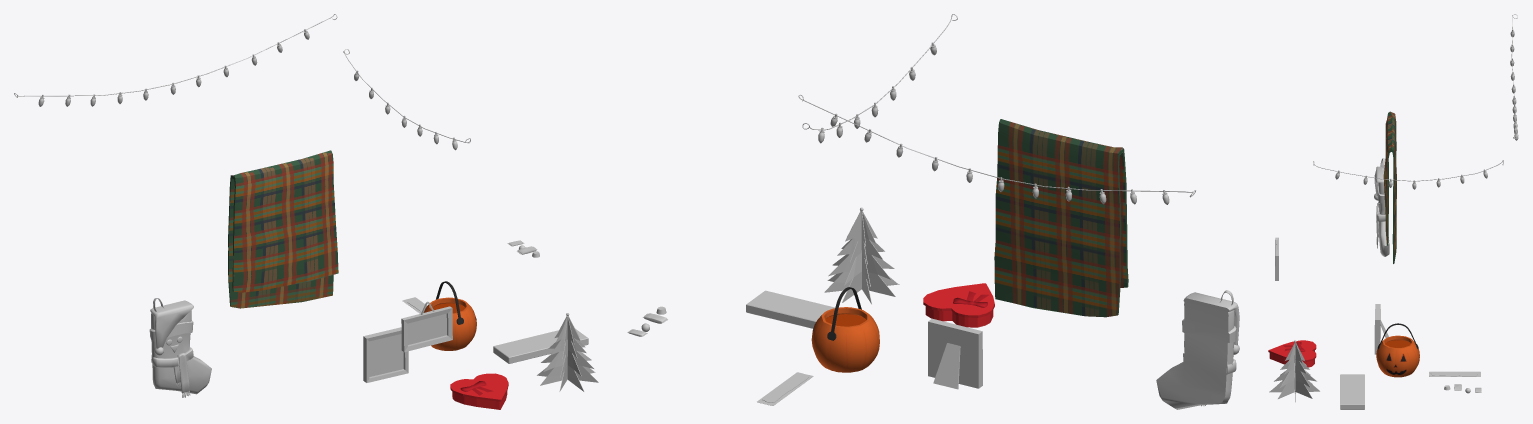
The model's file is MidAmerican_Assets_01.fbx.
3 renders of one model, left to right at view 1: azimuth 30°, elevation 25°; view 2: azimuth 150°, elevation 25°; view 3: azimuth 270°, elevation 25°, orthographic. The views are drawn at different scales.
Visible parts, largest first — view 1: plaidBlanket, stocking, paperTree, deskPic_frame.002, hangingPic_frame.001, Cube.023, jackOLantern, cribbageBoard, lightSet_01; view 2: plaidBlanket, stocking, jackOLantern, deskPic_frame.002, paperTree, Cube.023, cribbageBoard, lightSet_01, Plane.020, ligthString_01; view 3: jackOLantern, paperTree, plaidBlanket, stocking, cribbageBoard, Cube.023, deskPic_frame.002, lightSet_01, Plane.020, lightString_02, ligthSet_02.
Boxes of the visible parts, x1,y1,x2,y2 form: plaidBlanket: (228,150,338,308); stocking: (149,298,211,397); paperTree: (537,313,598,391); deskPic_frame.002: (363,327,408,382); hangingPic_frame.001: (401,301,452,352); Cube.023: (450,373,508,409); jackOLantern: (423,281,476,350); cribbageBoard: (493,328,588,363); lightSet_01: (38,29,309,106); plaidBlanket: (994,119,1128,317); stocking: (1156,290,1239,409); jackOLantern: (811,287,879,372); deskPic_frame.002: (928,318,982,389); paperTree: (824,207,899,304); Cube.023: (923,283,994,327); cribbageBoard: (746,290,834,328); lightSet_01: (830,113,1169,204); Plane.020: (757,372,813,405); ligthString_01: (798,94,1195,197); jackOLantern: (1376,323,1419,377); paperTree: (1269,340,1319,402); plaidBlanket: (1383,111,1396,263); stocking: (1374,158,1389,256); cribbageBoard: (1340,374,1364,409); Cube.023: (1268,340,1316,367); deskPic_frame.002: (1374,304,1388,354); lightSet_01: (1510,29,1518,140); Plane.020: (1429,371,1480,376); lightString_02: (1313,160,1503,181); ligthSet_02: (1335,169,1487,189).
Bounding box in the file's own units: 4.78 × 2.72 × 2.74.
